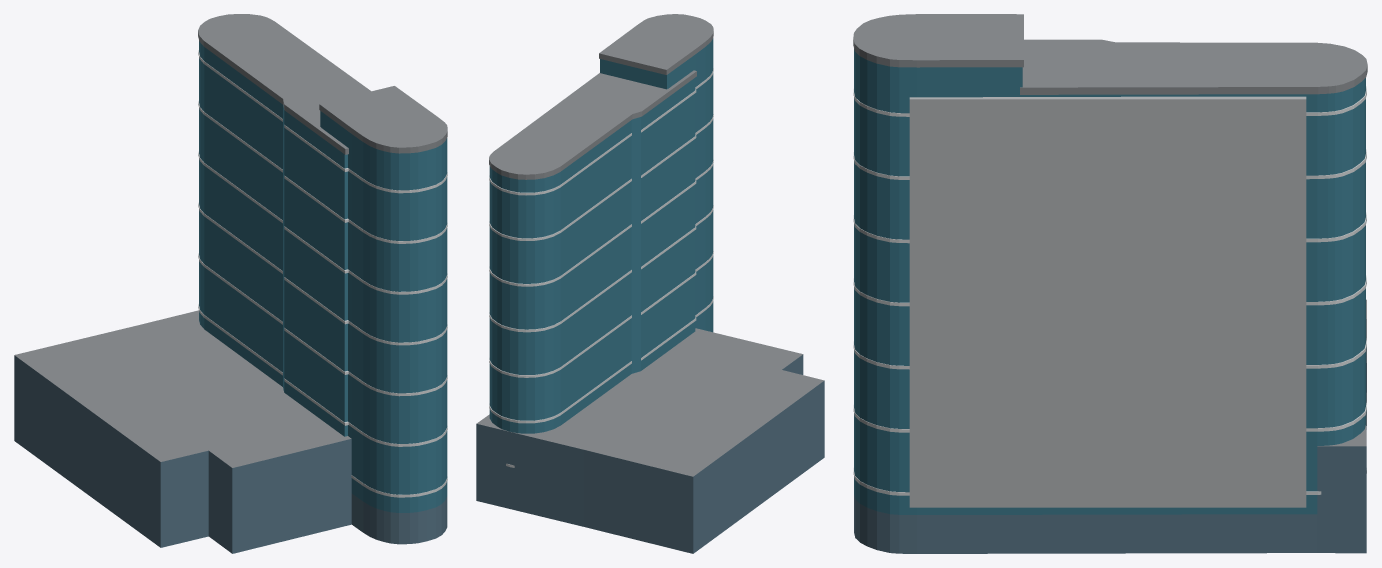
File: hyatt_regency_slc.glb
3 views of the same model, side by side, from view 1: azimuth 30°, elevation 25°; view 2: azimuth 150°, elevation 25°; view 3: azimuth 270°, elevation 25° (orthographic). The views are drawn at different scales.
Parts seen in each view (by area): view 1: Hyatt_Regency_Slc; view 2: Hyatt_Regency_Slc; view 3: Hyatt_Regency_Slc.
Boxes of the visible parts, <box> form: Hyatt_Regency_Slc: <box>14,14,447,553</box>; Hyatt_Regency_Slc: <box>476,14,824,553</box>; Hyatt_Regency_Slc: <box>853,14,1367,553</box>.
Bounding box in the file's own units: 65.98 × 102 × 95.94.
